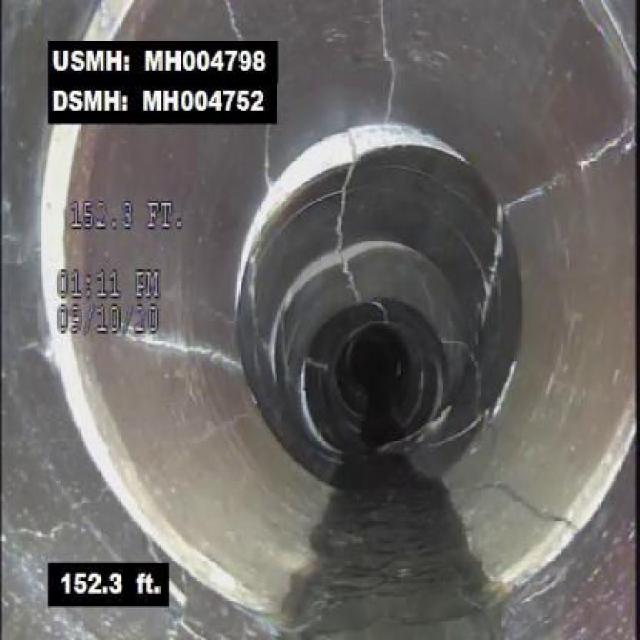Crack: (511, 117, 637, 218), (479, 470, 583, 544), (361, 5, 417, 119), (142, 337, 242, 372), (249, 125, 277, 186)
Joint offset: (68, 406, 174, 560), (32, 125, 83, 402), (177, 540, 274, 614), (586, 398, 637, 509), (228, 194, 277, 303), (355, 125, 474, 166), (285, 129, 349, 185)
